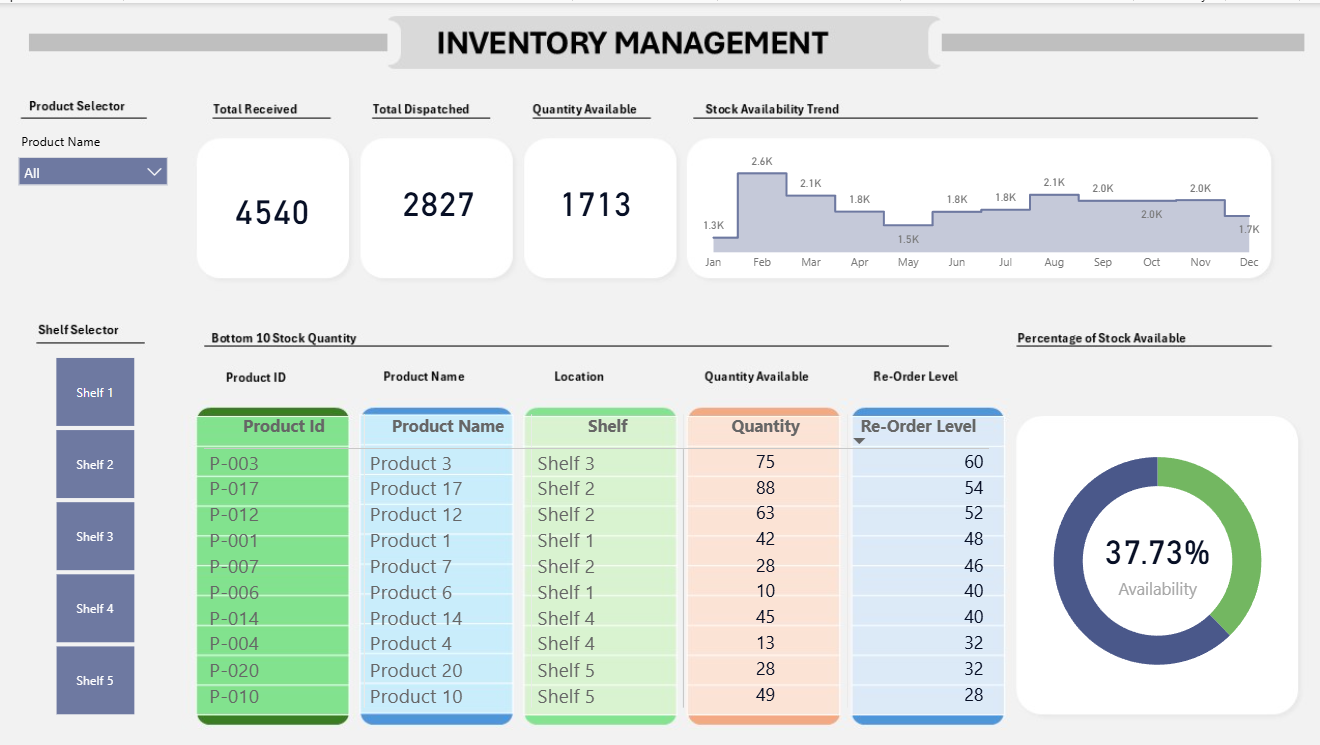

The dashboard page shown, as its layout file describes it:
{"tool":"powerbi","page":{"name":"Page 1","canvas":[1280,720],"ordinal":0},"visuals":[{"type":"lineChart","fields":{"Category":["calender.month name"],"Y":[" measuer .Quantity running total in month name"]},"box":[665.9,130.3,564.6,137.5],"z":0,"group":"g1"},{"type":"card","fields":{"Values":[" measuer .Receipt"]},"box":[192,144,144,112],"z":1000,"group":"g1"},{"type":"card","fields":{"Values":[" measuer .Dispatch"]},"box":[352,128,144,128],"z":2000,"group":"g1"},{"type":"card","fields":{"Values":[" measuer .Quantity"]},"box":[496,128,160,128],"z":3000,"group":"g1"},{"type":"donutChart","fields":{"Y":[" measuer .Availability"," measuer .Remainder"]},"box":[988,395.7,260.6,285.9],"z":4000,"group":"g1"},{"type":"pivotTable","fields":{"Rows":["Product.Product Id","Product.Product Name","Product.Shelf"],"Values":[" measuer .Quantity","Sum(Product.Re-Order Level)"]},"box":[193,392,776.9,306.4],"z":5000,"group":"g1"},{"type":"slicer","fields":{"Values":["Product.Shelf"]},"box":[28.9,335.3,125.5,358.3],"z":6000,"group":"g1"},{"type":"slicer","fields":{"Values":["Product.Product Name"]},"box":[8.4,120.6,164.1,72.4],"z":7000,"group":"g1"},{"type":"card","fields":{"Values":[" measuer .Availability"]},"box":[1038.7,492.2,159.3,92.9],"z":8000,"group":"g1"},{"type":"group","id":"g1","title":"Group 1","box":[8.4,120.6,1240.2,577.9],"z":8001}]}

Visuals, with their boxes in screenshot pixels (x1, y1, x2, y2), scaled from the page's 1280x720 canvas onto the 1320x745 screenshot:
lineChart - calender.month name x  measuer .Quantity running total in month name: l=687, t=135, r=1269, b=277
card -  measuer .Receipt: l=198, t=149, r=346, b=265
card -  measuer .Dispatch: l=363, t=132, r=512, b=265
card -  measuer .Quantity: l=512, t=132, r=676, b=265
donutChart -  measuer .Availability x  measuer .Remainder: l=1019, t=409, r=1288, b=705
pivotTable - Product.Product Id x Product.Product Name: l=199, t=406, r=1000, b=723
slicer - Product.Shelf: l=30, t=347, r=159, b=718
slicer - Product.Product Name: l=9, t=125, r=178, b=200
card -  measuer .Availability: l=1071, t=509, r=1235, b=605
"Group 1" group: l=9, t=125, r=1288, b=723
